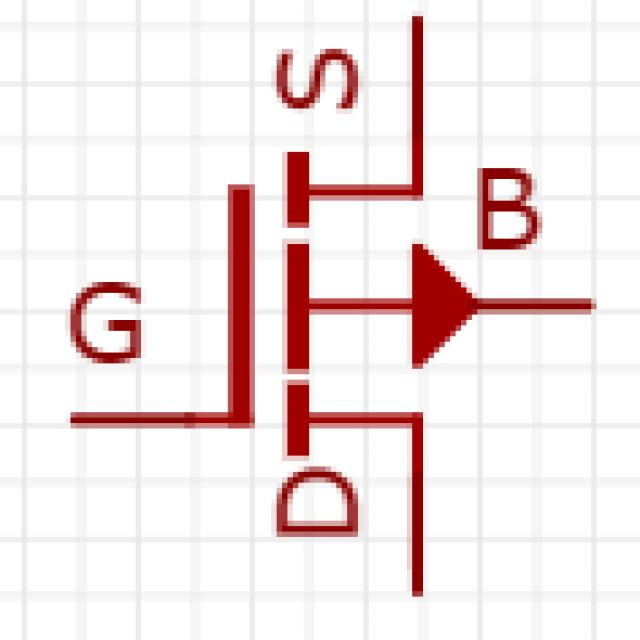pmos: (38, 24, 618, 620)
